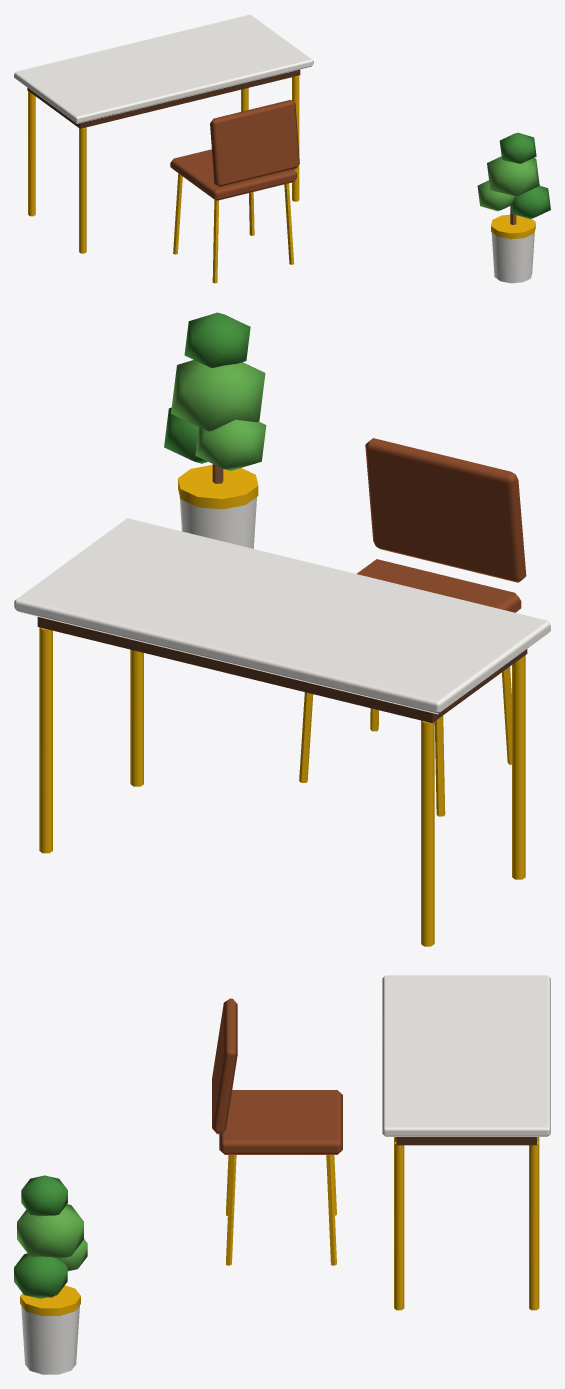
Rendered from station_intake_basis.glb.
The picture shows the model from 3 angles, top to bottom: view 1: azimuth 30°, elevation 25°; view 2: azimuth 150°, elevation 25°; view 3: azimuth 270°, elevation 25°; orthographic projection. The views are drawn at different scales.
Parts seen in each view (by area): view 1: station_intake_basis; view 2: station_intake_basis; view 3: station_intake_basis.
Boxes of the visible parts, x1=… form: station_intake_basis: x1=14, y1=14, x2=550, y2=283; station_intake_basis: x1=14, y1=312, x2=550, y2=946; station_intake_basis: x1=14, y1=975, x2=550, y2=1374.
Bounding box in the file's own units: 1.87 × 0.8497 × 1.91.
